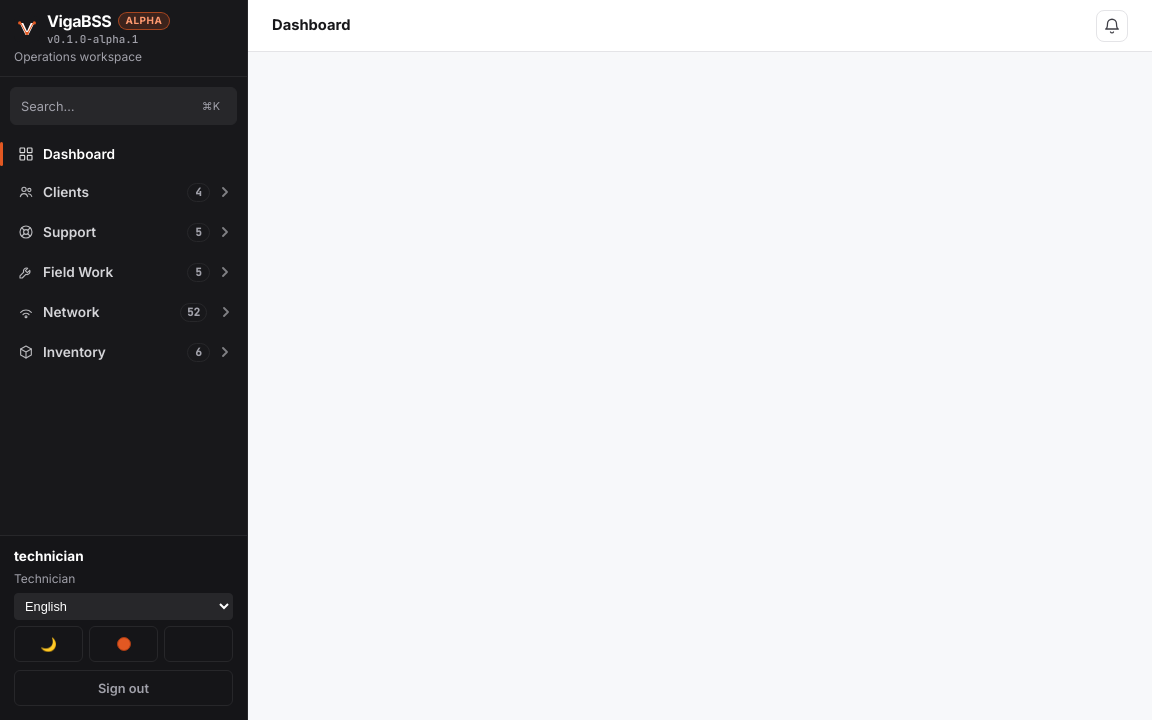
Test: Layout — grouped sidebar navigation › gives technicians their field kit from the shared registry (no hardcoded fork)
Expected: the text "Network" is shown, 43,304 -> 100,320
Expected: the text "Inventory" is shown, 43,344 -> 106,360
Click the text "Field Work".
click(78, 272)  # box 43,264 -> 113,280
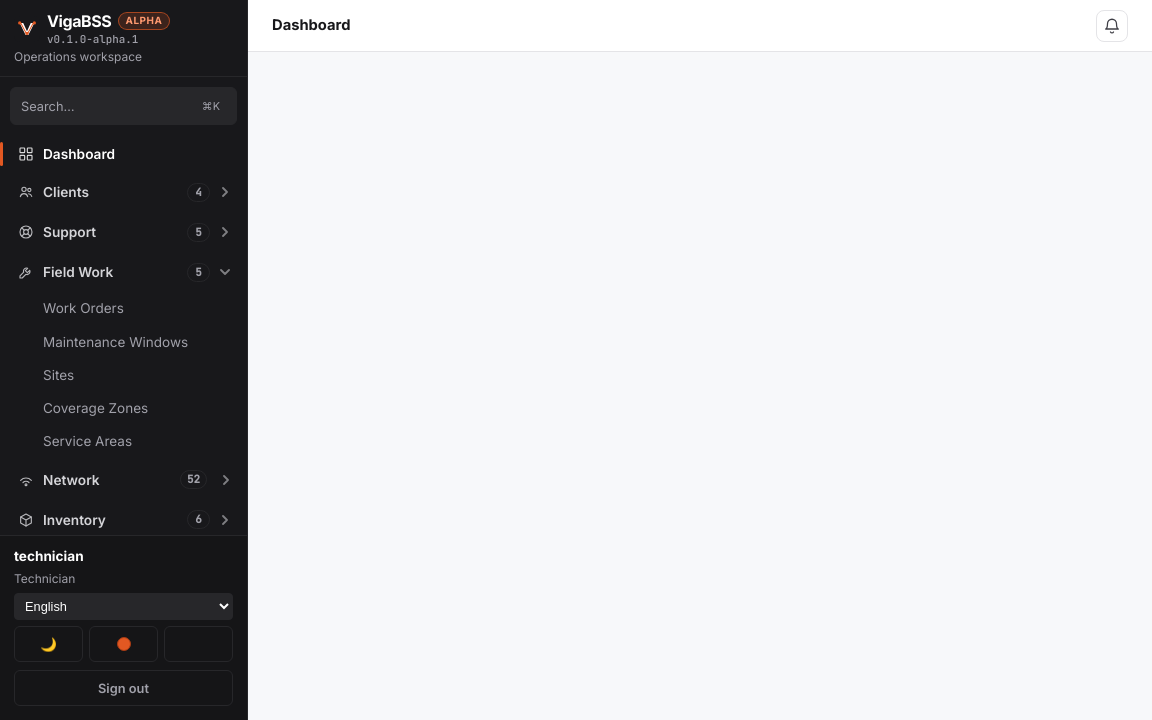
Expected: the link "Work Orders" is shown, 43,300 -> 124,316
Click the text "Support".
click(70, 232)  # box 43,224 -> 96,240
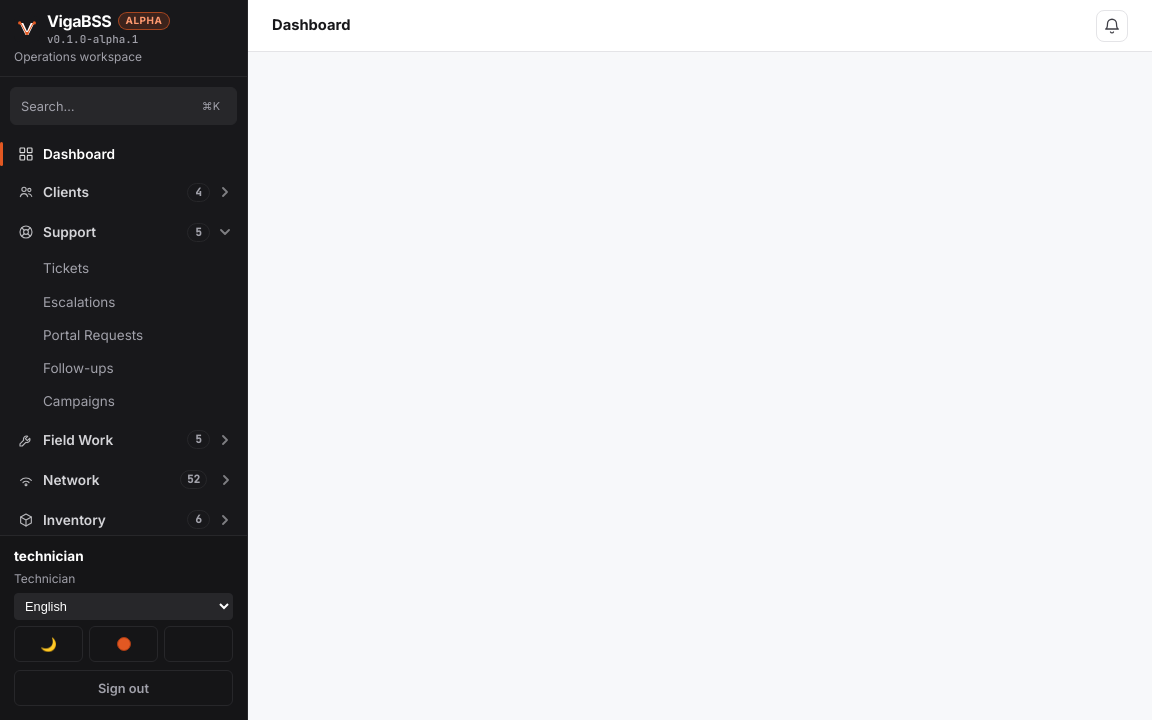
Expected: the link "Tickets" is shown, 43,260 -> 89,276
# Expanding Network reveals the shortlist and the View-all row to the hub.
Click the text "Network".
click(71, 480)  # box 43,472 -> 100,488
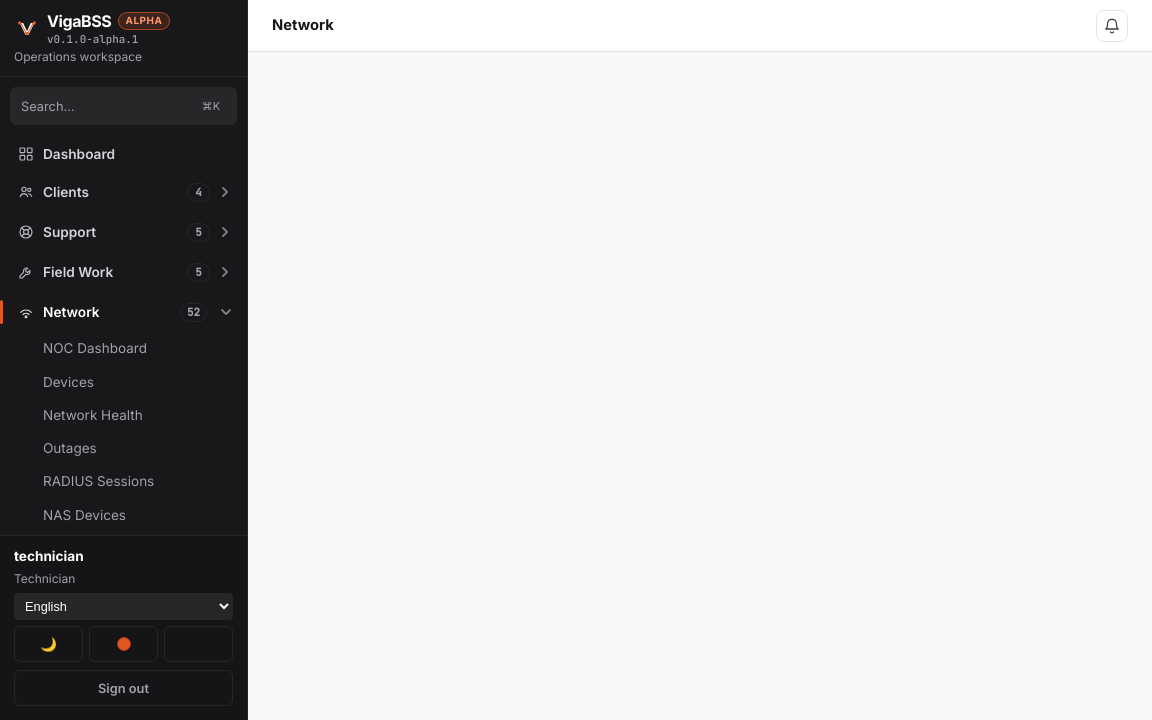
Expected: the link "Tickets" is gone
Expected: the link "NAS Devices" is shown, 43,507 -> 126,523
